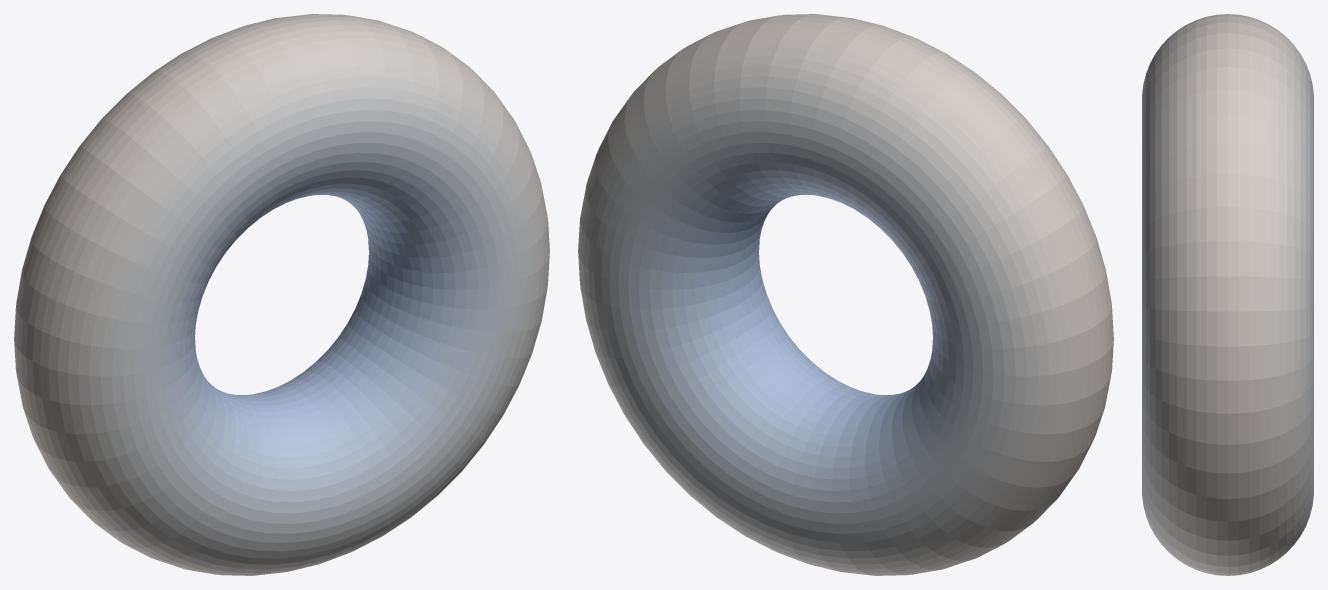
3 views of the same model, side by side, from view 1: azimuth 30°, elevation 25°; view 2: azimuth 150°, elevation 25°; view 3: azimuth 270°, elevation 25° (orthographic). The views are drawn at different scales.
Parts seen in each view (by area): view 1: world; view 2: world; view 3: world.
Boxes of the visible parts, x1,y1,x2,y2 form: world: (14,14,549,575); world: (578,14,1113,575); world: (1142,14,1313,575).
Bounding box in the file's own units: 23.07 × 23.02 × 7.05.
